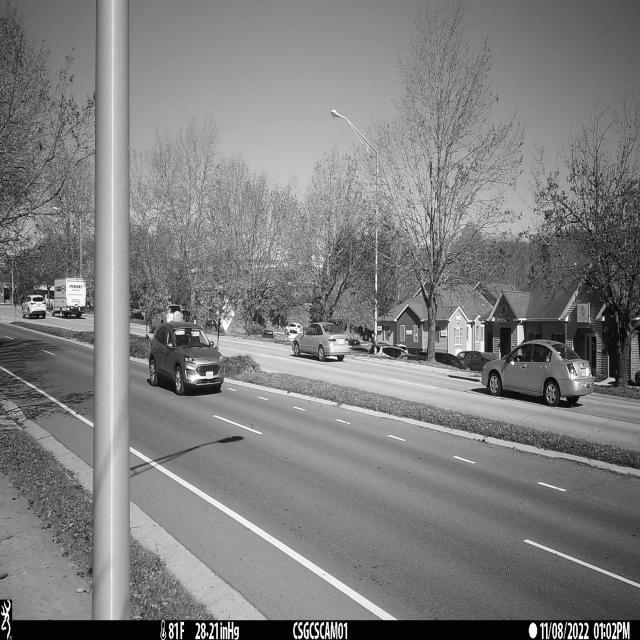SUV: (149, 322, 225, 397)
